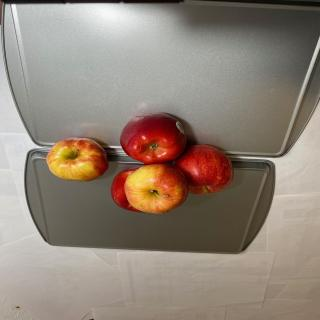Apple: (120, 112, 187, 164), (124, 163, 188, 214), (172, 144, 234, 195), (46, 137, 108, 182), (110, 165, 144, 212)
